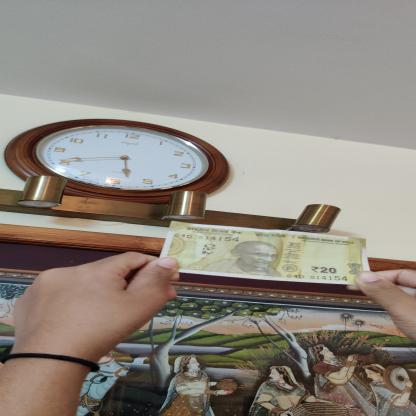New20Front: (158, 219, 371, 284)
